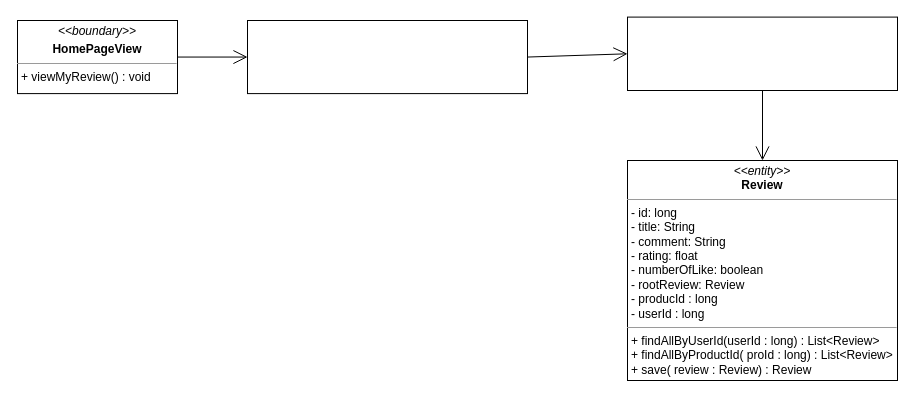
Some shapes in this 915 by 399 pixel diagram are drawn without their labels. Here are the shapes that lost their labels. From the top down, the centre of each, then its label:
At point 387,57: "<<boundary>> MyReviewView + displayMyReview(reviews : List<Review)) : void".
At point 762,53: "<<controller>> ReviewController + getReviewOfUser(userId : long) : List<review>".
